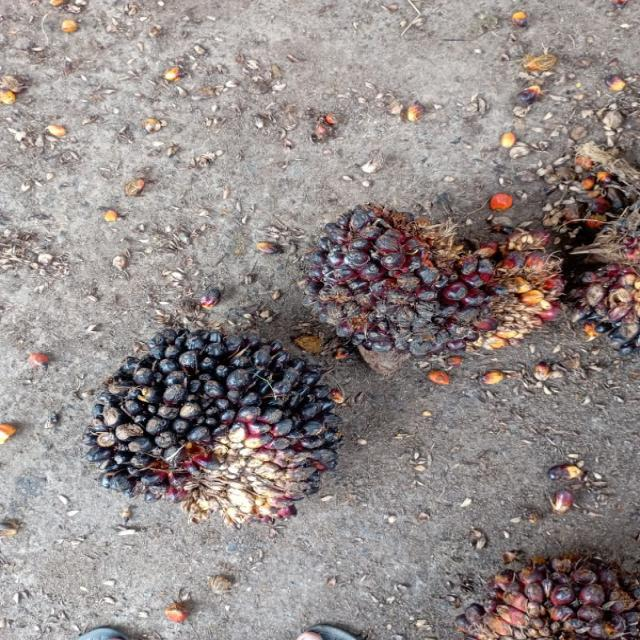fraksi 00: (70, 324, 351, 531)
fraksi 1: (297, 198, 562, 368)
